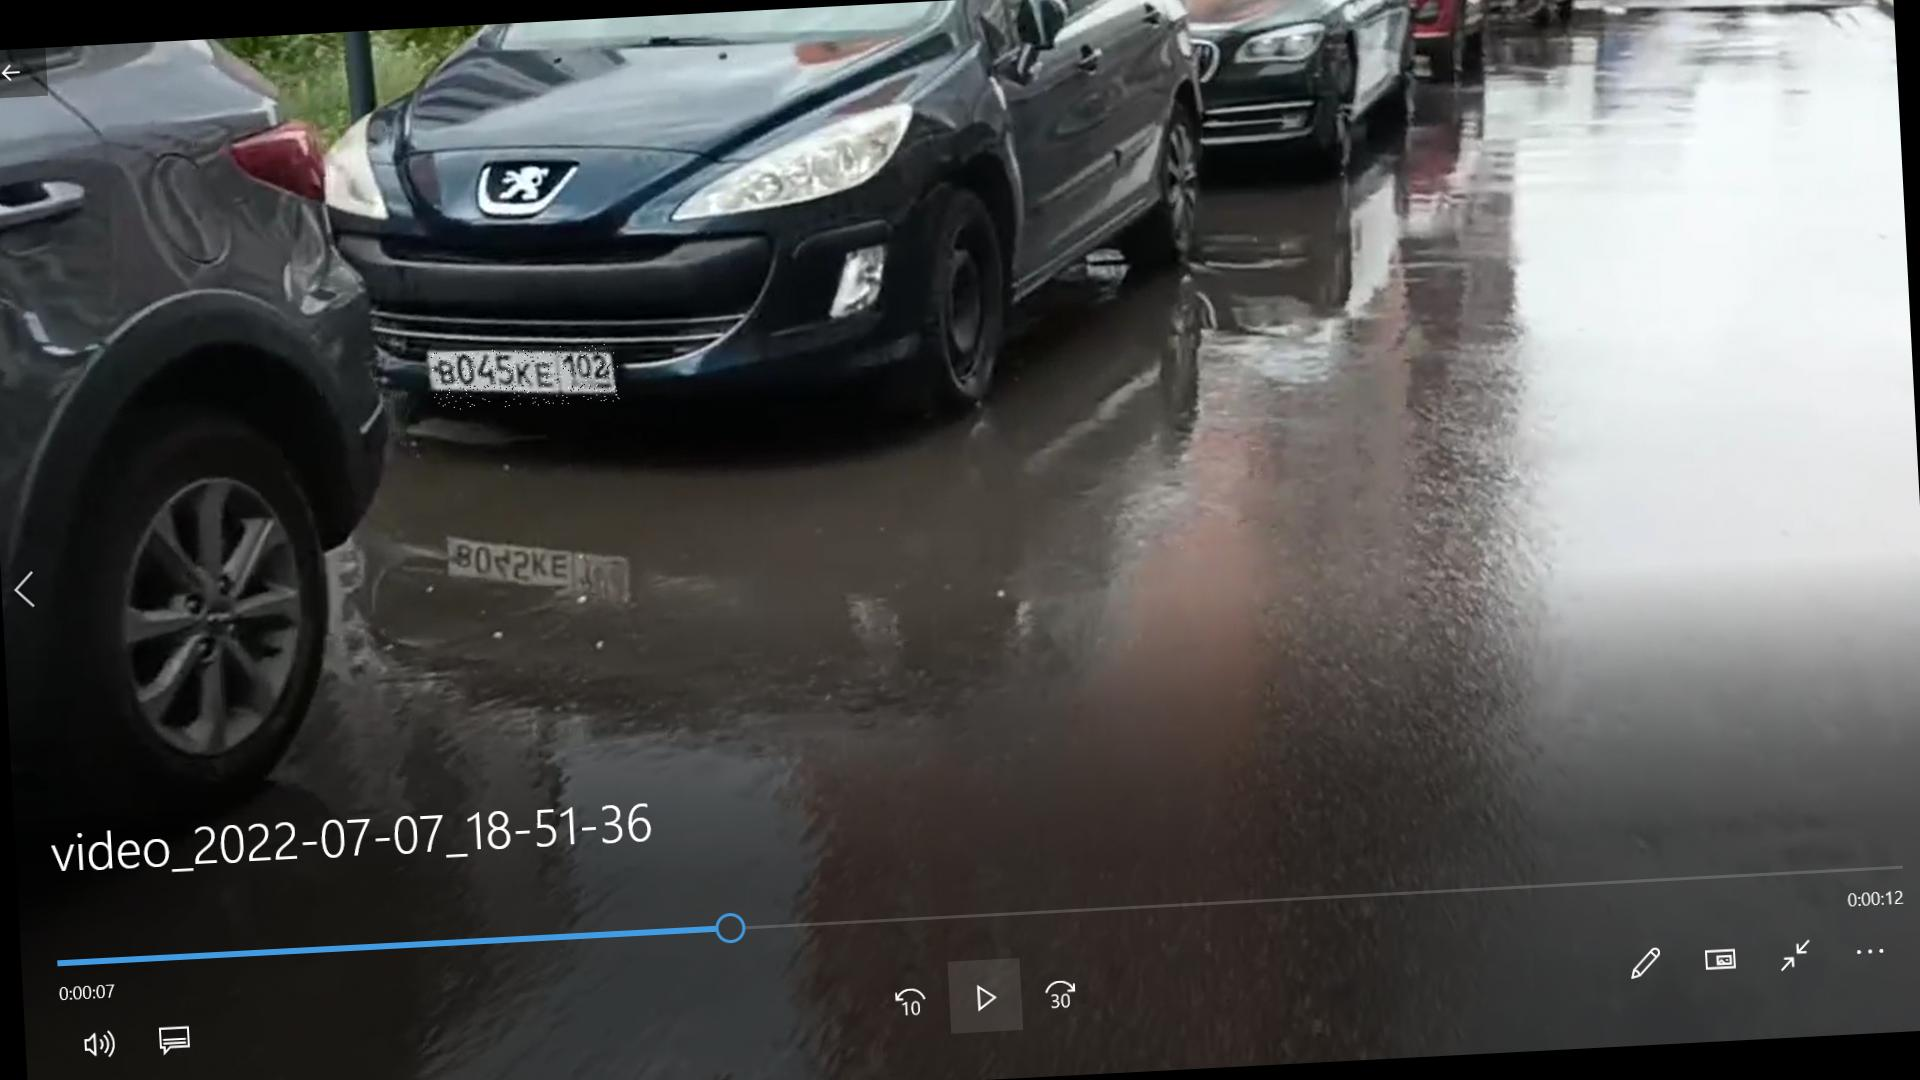plate: (432, 345, 621, 413)
